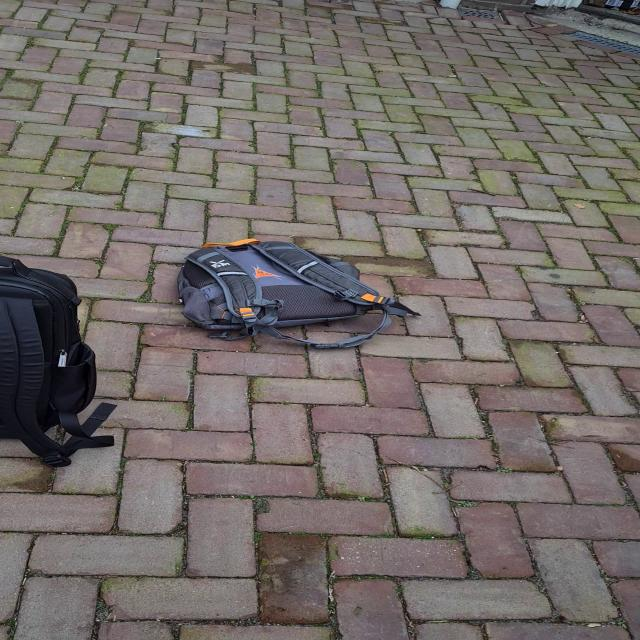backpack: (168, 238, 401, 348), (0, 250, 103, 476)
